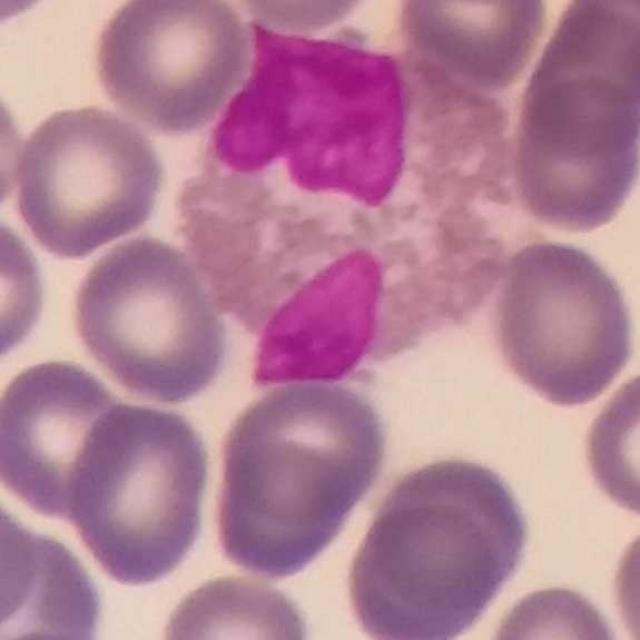eosino: (174, 14, 519, 396)
